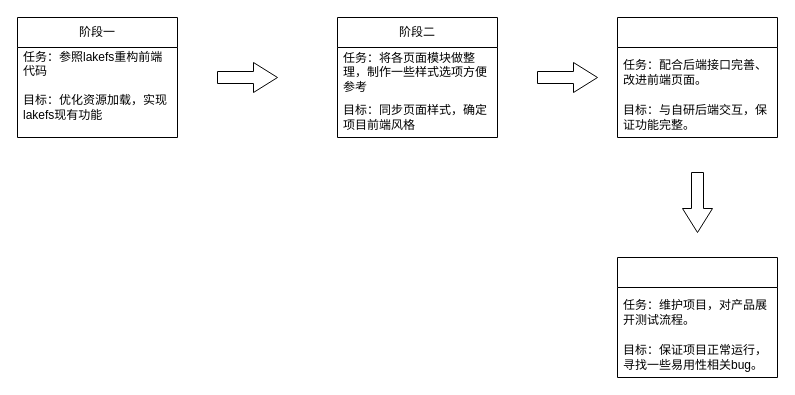
The diagram is 795 pixels wide and 395 high, and some of its shapes have lost their labels. Each missing label, with the box of its shape:
阶段三: (616, 16, 778, 138)
阶段四: (616, 256, 778, 378)
